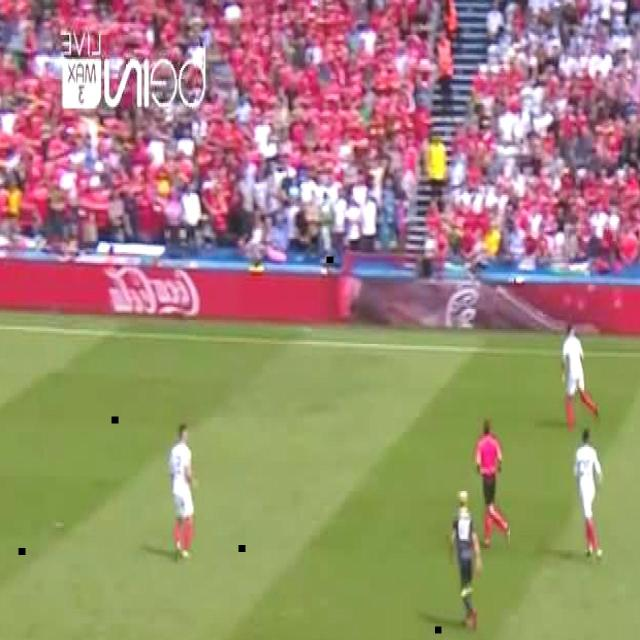player-white: (475, 418, 511, 548), (450, 489, 482, 631), (572, 430, 604, 560), (562, 326, 600, 432), (170, 424, 198, 560)
